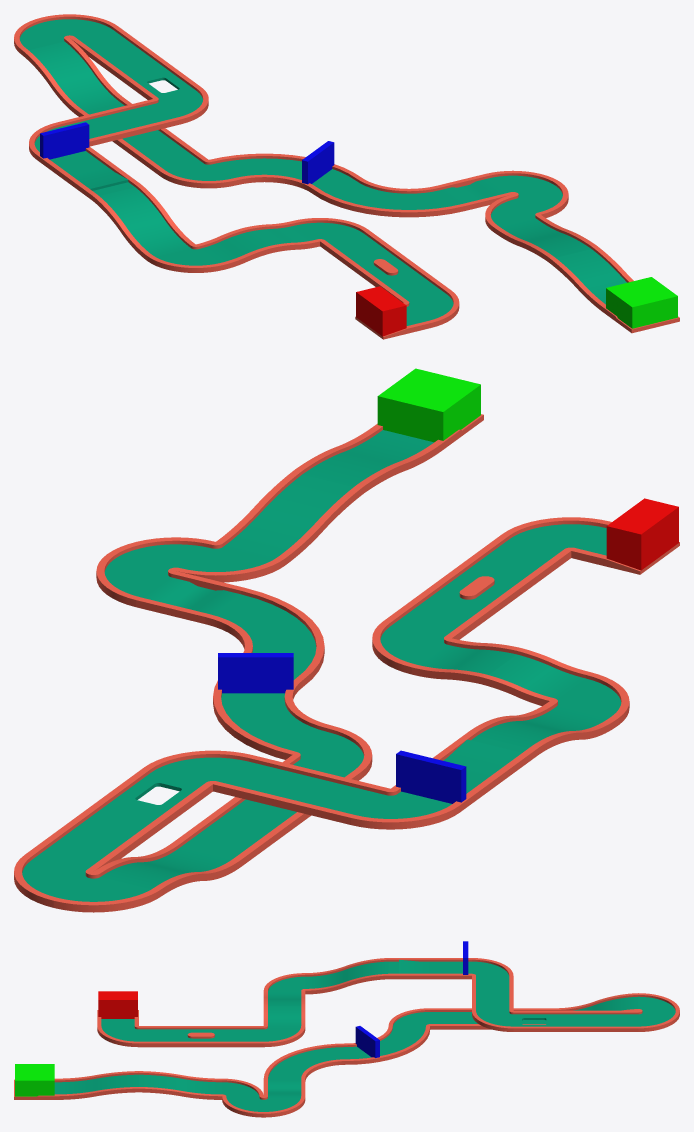
The model's file is track2.glb.
3 views of the same model, one above another, from view 1: azimuth 30°, elevation 25°; view 2: azimuth 150°, elevation 25°; view 3: azimuth 270°, elevation 25° (orthographic). The views are drawn at different scales.
Parts seen in each view (by area): view 1: straight (×9), bend (×10), slope_smoothD_long (×2), bend_large (×2), slope_smoothB_long (×2), slope_smoothA (×2), start_block, checkpoint_block (×2), finish_block, straight_valley, straight_obstacleRound, straight_slope (+2 smaller); view 2: bend (×11), straight (×9), slope_smoothB_long (×2), bend_large (×2), slope_smoothD_long (×2), slope_smoothA (×2), checkpoint_block (×2), start_block, finish_block, straight_valley, straight_obstacleRound, straight_slope (+2 smaller); view 3: bend (×11), straight (×8), bend_large (×2), slope_smoothB_long (×2), slope_smoothD_long (×2), slope_smoothA (×2), start_block, finish_block, straight_slope, straight_obstacleRound, straight_hole, straight_valley (+2 smaller).
Part boxes in pixels (left/top/right/bottom): straight (×9): left=36, top=26, right=451, bottom=303; bend (×10): left=14, top=14, right=568, bottom=327; slope_smoothD_long (×2): left=21, top=38, right=195, bottom=260; bend_large (×2): left=209, top=153, right=464, bottom=217; slope_smoothB_long (×2): left=492, top=214, right=633, bottom=312; slope_smoothA (×2): left=196, top=221, right=319, bottom=269; start_block: left=606, top=277, right=677, bottom=328; checkpoint_block (×2): left=40, top=122, right=334, bottom=184; finish_block: left=356, top=286, right=406, bottom=336; straight_valley: left=437, top=174, right=512, bottom=210; straight_obstacleRound: left=348, top=250, right=423, bottom=286; straight_slope: left=64, top=163, right=139, bottom=199; bend (×11): left=14, top=517, right=629, bottom=912; straight (×9): left=25, top=534, right=571, bottom=873; slope_smoothB_long (×2): left=216, top=425, right=443, bottom=565; bend_large (×2): left=205, top=588, right=331, bottom=759; slope_smoothD_long (×2): left=94, top=701, right=618, bottom=895; slope_smoothA (×2): left=412, top=638, right=588, bottom=705; checkpoint_block (×2): left=218, top=653, right=466, bottom=803; start_block: left=377, top=368, right=480, bottom=442; finish_block: left=606, top=498, right=678, bottom=570; straight_valley: left=136, top=571, right=244, bottom=623; straight_obstacleRound: left=423, top=563, right=531, bottom=615; straight_slope: left=433, top=730, right=539, bottom=783; bend (×11): left=97, top=958, right=679, bottom=1117; straight (×8): left=139, top=958, right=638, bottom=1047; bend_large (×2): left=263, top=1026, right=430, bottom=1081; slope_smoothB_long (×2): left=55, top=1071, right=221, bottom=1099; slope_smoothD_long (×2): left=305, top=958, right=638, bottom=1010; slope_smoothA (×2): left=263, top=990, right=305, bottom=1027; start_block: left=15, top=1064, right=54, bottom=1096; finish_block: left=98, top=991, right=137, bottom=1018; straight_slope: left=388, top=958, right=430, bottom=979; straight_obstacleRound: left=180, top=1026, right=221, bottom=1047; straight_hole: left=513, top=1010, right=554, bottom=1031; straight_valley: left=263, top=1078, right=305, bottom=1097.
Bounding box in the file's own units: 16 × 1.9 × 32.
